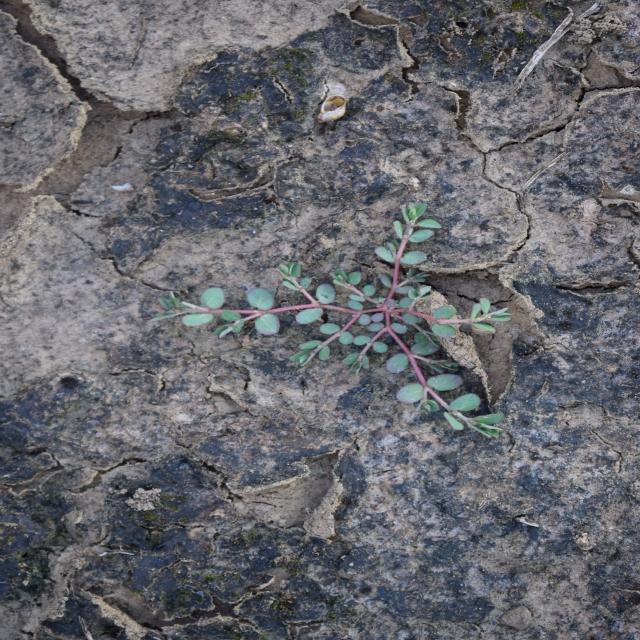SpottedSpurge: (148, 201, 515, 441)
